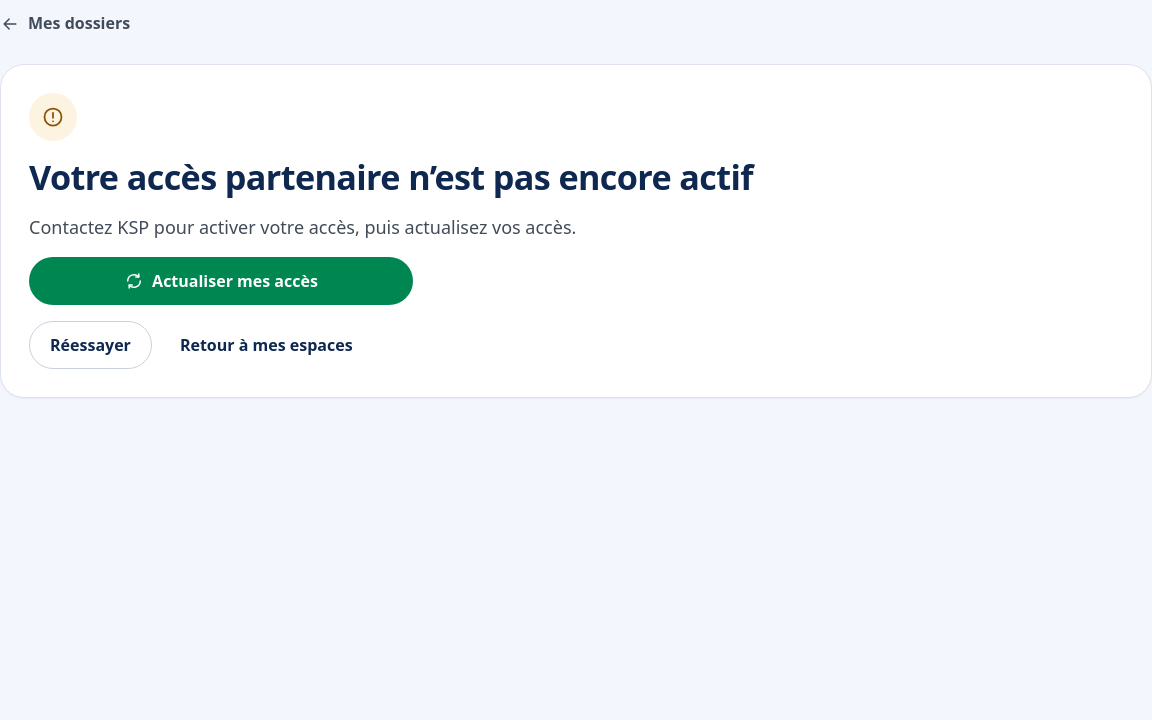
Test case: fiche d’un dossier confié › 403 (B1) : accès pas encore actif, « Réessayer » relit une fois
Expected: the heading "Votre accès partenaire n’est pas encore actif" is shown, x1=29 y1=153 x2=753 y2=200
Expected: the button "Actualiser mes accès" is shown, x1=29 y1=257 x2=413 y2=305
What coordinates should you click on to do the following:
click the button "Réessayer"
I would click on:
 (90, 345)
Its box is x1=29 y1=321 x2=152 y2=369.
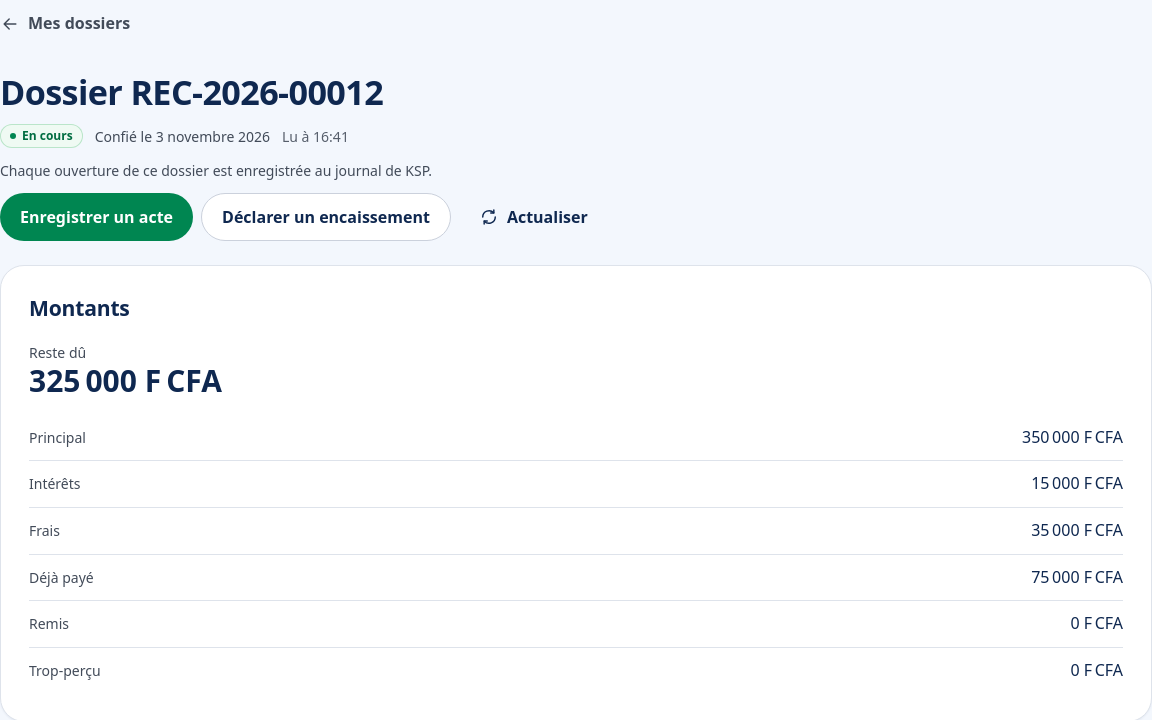
Now the heading "Dossier REC-2026-00012" is shown, box x1=0 y1=68 x2=383 y2=115
